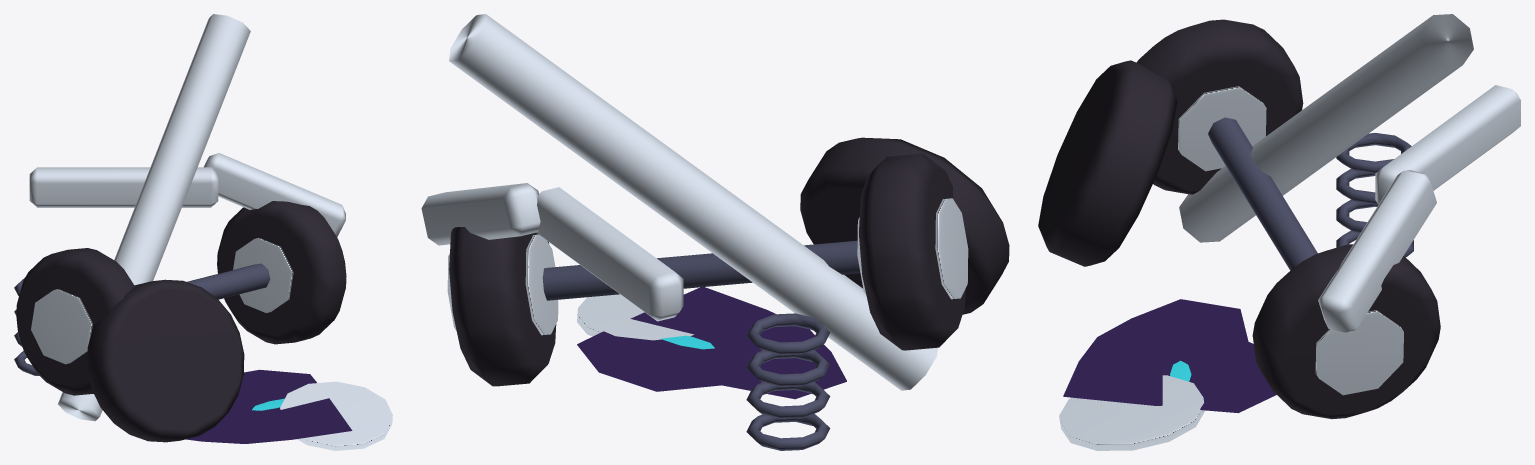
Rendered from scrap_heap.glb.
3 renders of one model, left to right at view 1: azimuth 30°, elevation 25°; view 2: azimuth 150°, elevation 25°; view 3: azimuth 270°, elevation 25°, orthographic. The views are drawn at different scales.
Parts seen in each view (by area): view 1: Scrap; view 2: Scrap; view 3: Scrap.
Part boxes in pixels (box(x1,y1,x2,y2)): Scrap: box(14, 14, 392, 450); Scrap: box(421, 14, 1009, 450); Scrap: box(1038, 14, 1520, 450).
Size of the model in its own units: 1.09 by 0.9509 by 0.9929.
